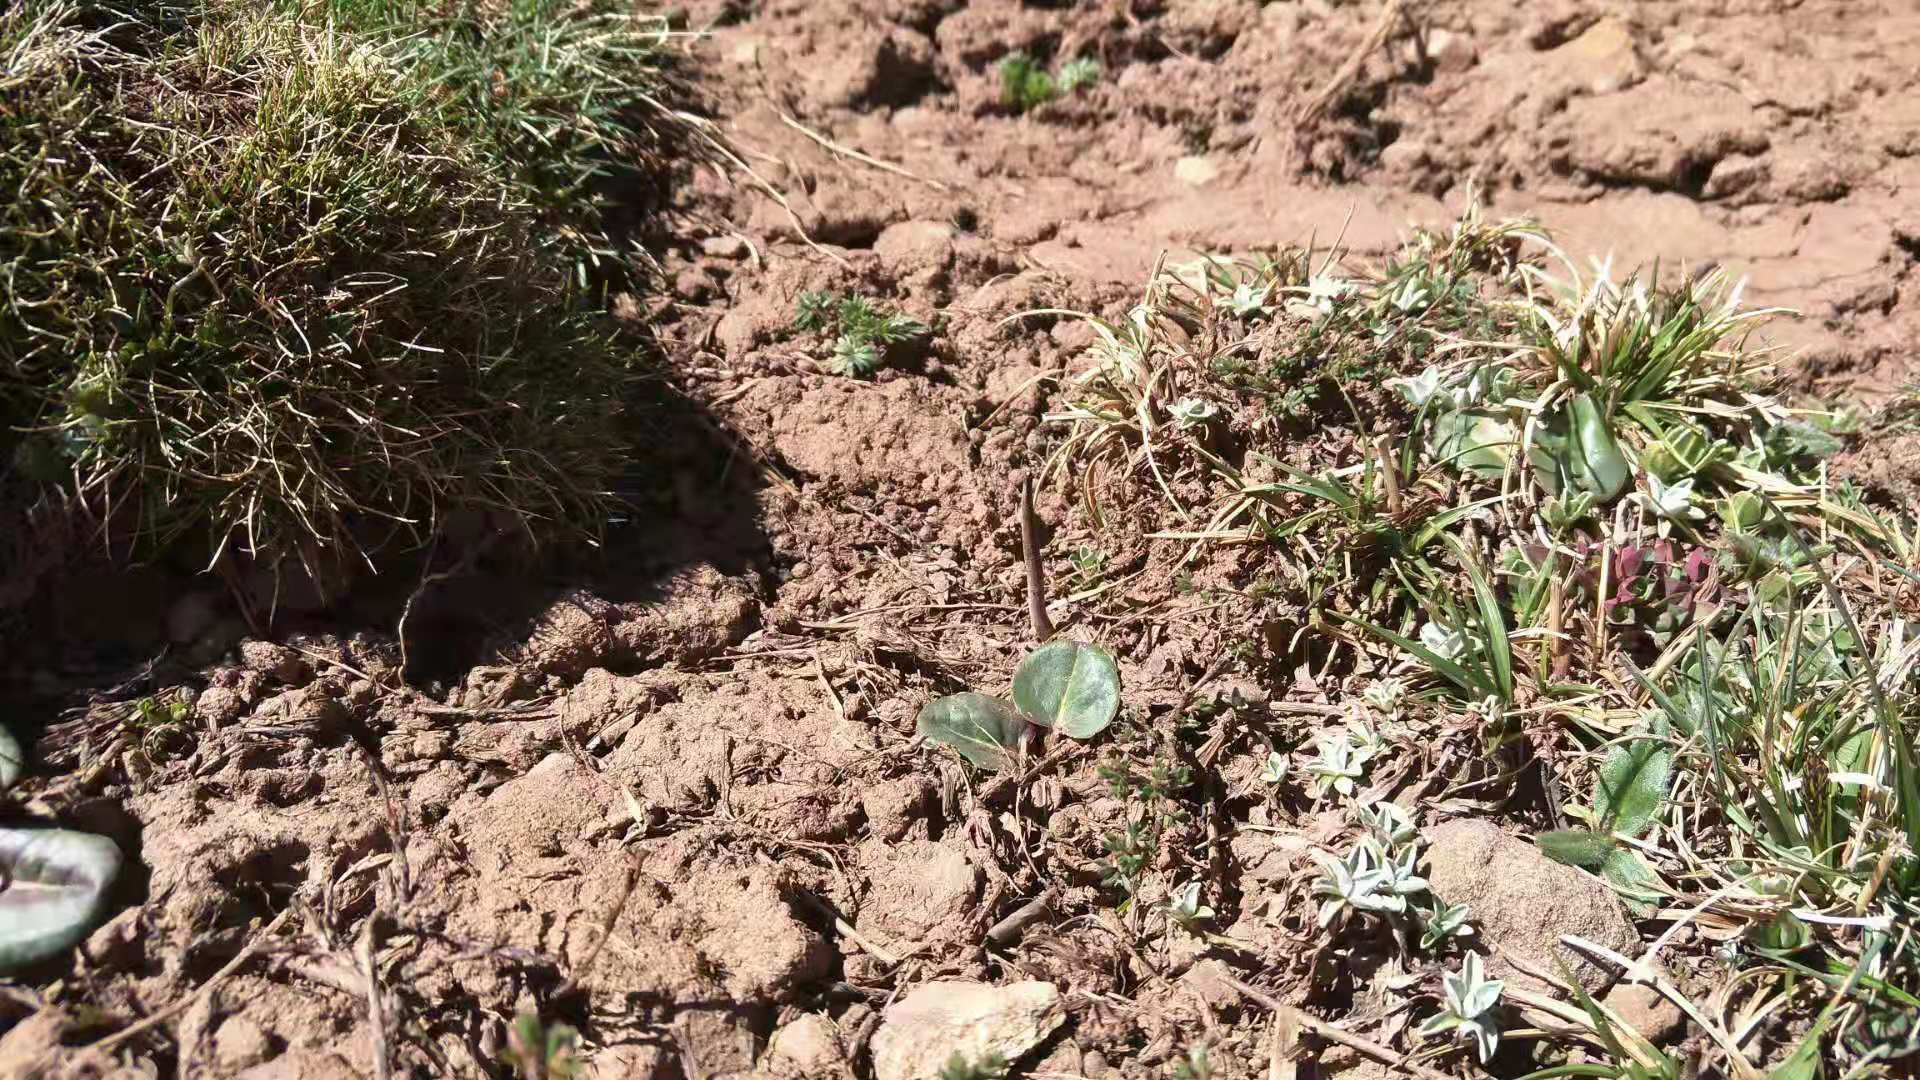Chongcao: (1021, 473, 1054, 637)
